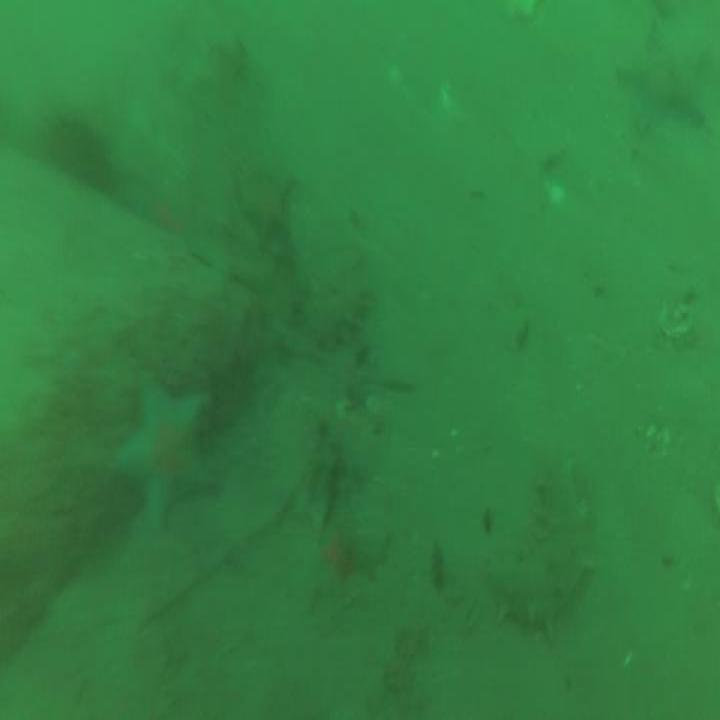echinus: (53, 110, 110, 188)
holothurian: (479, 450, 593, 642), (302, 260, 373, 350)
starfish: (116, 378, 212, 524), (620, 20, 704, 134), (304, 510, 356, 612), (246, 167, 288, 247)
